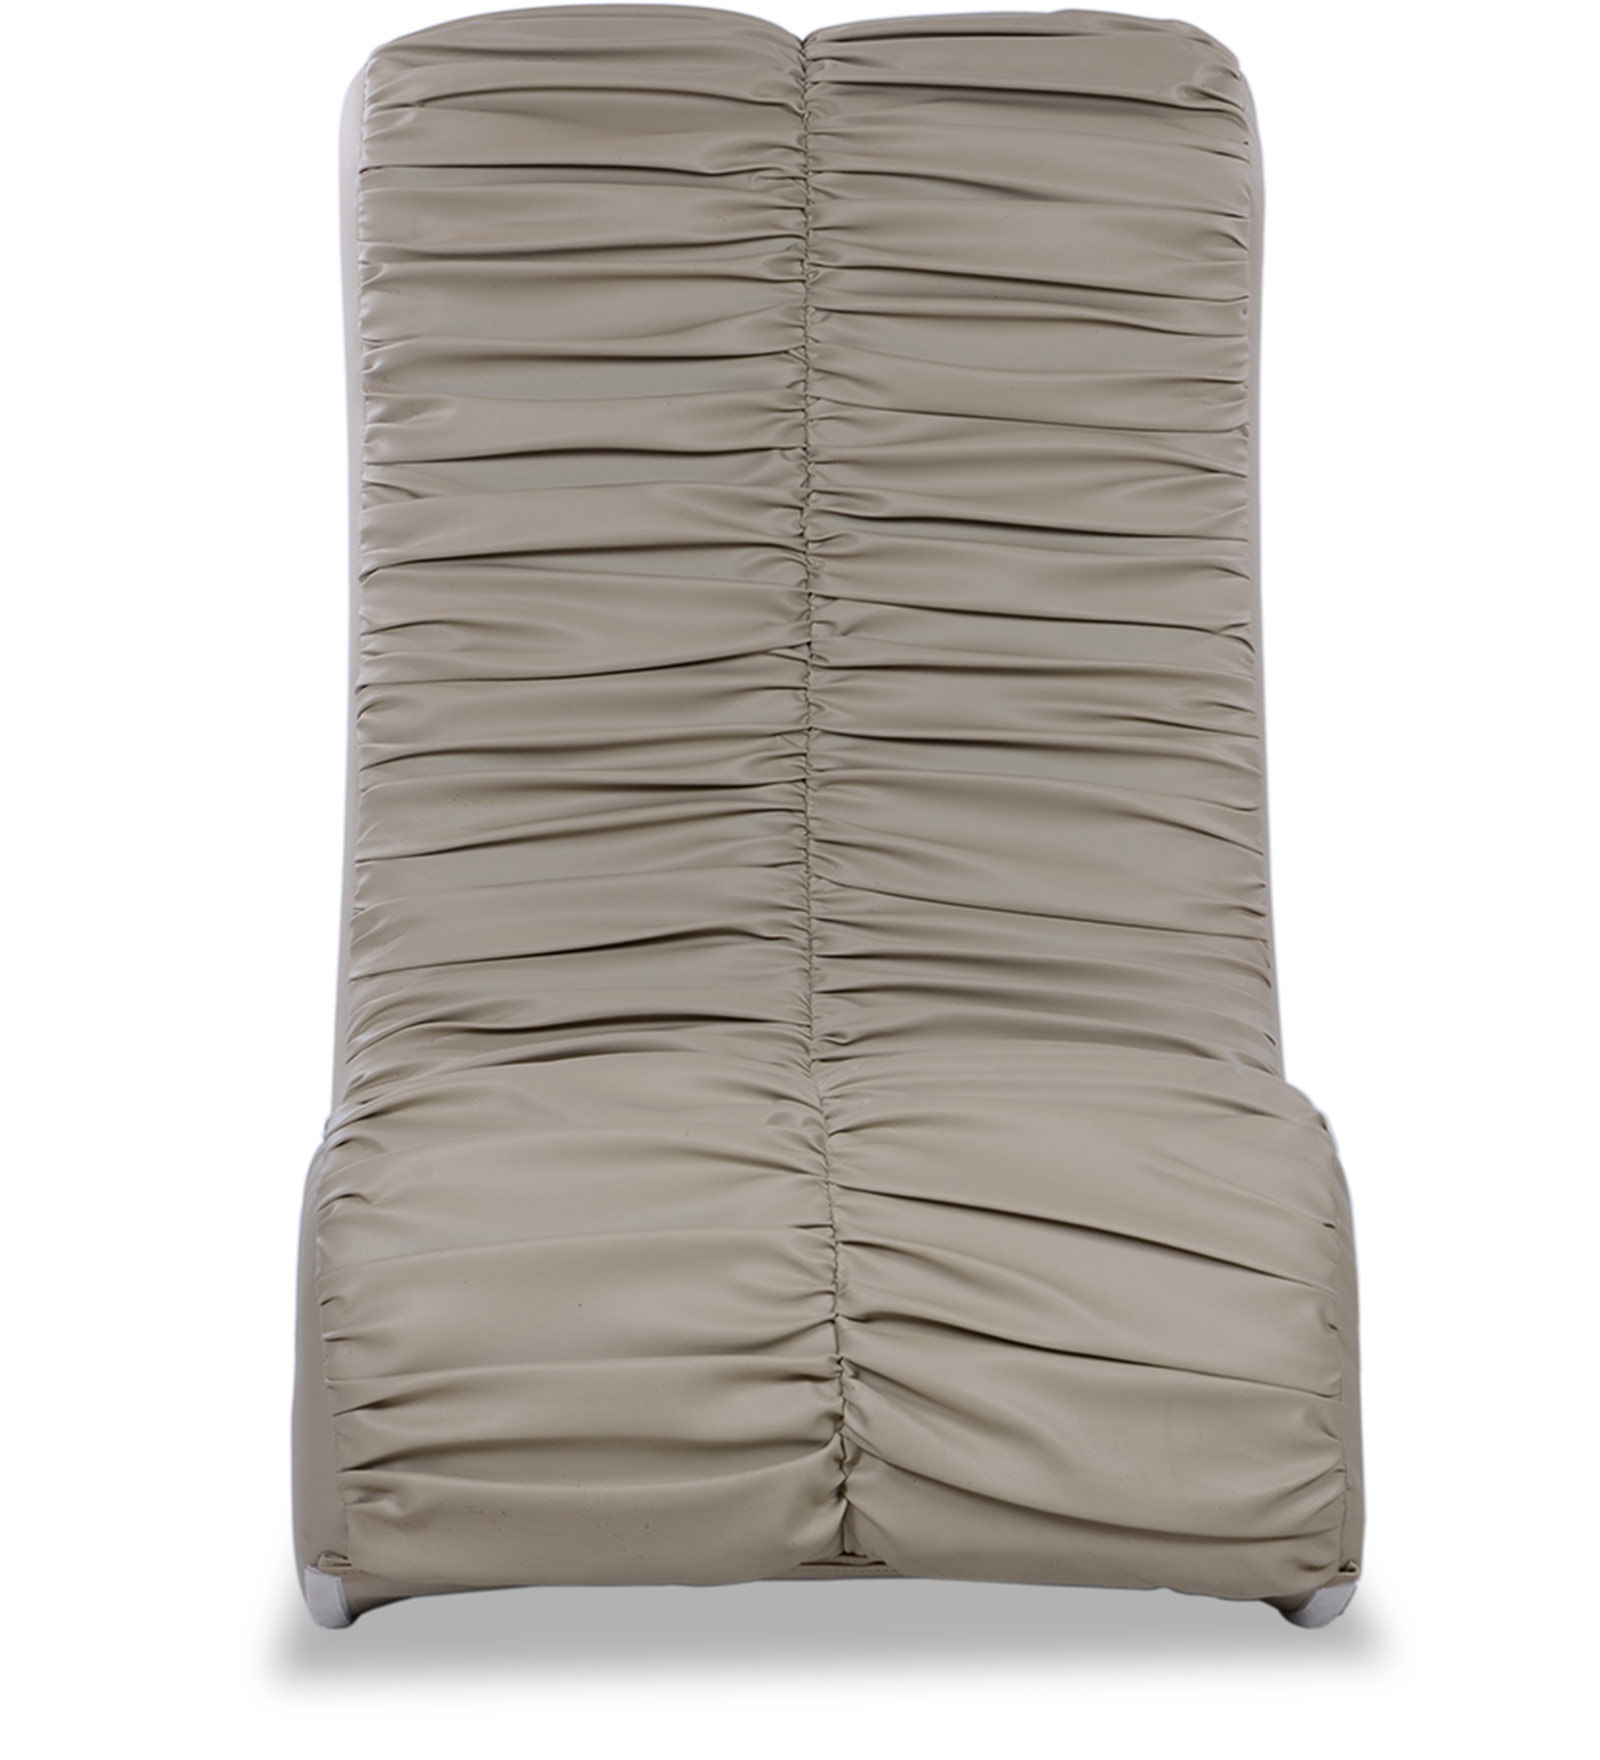Low Seat Rocking Chair in Beige Leatherette by Durian: (290, 5, 1378, 1633)
